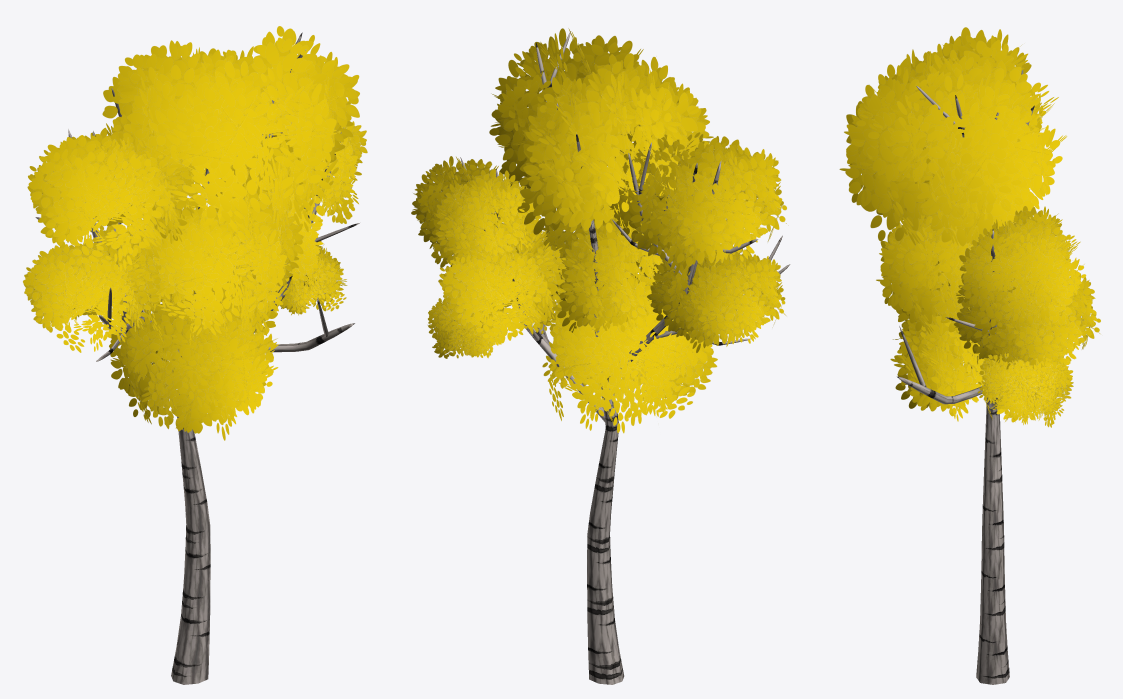
The model's file is BirchTree_3.gltf.
3 renders of one model, left to right at view 1: azimuth 30°, elevation 25°; view 2: azimuth 150°, elevation 25°; view 3: azimuth 270°, elevation 25°, orthographic. The views are drawn at different scales.
Visible parts, largest first — view 1: BirchTree_3; view 2: BirchTree_3; view 3: BirchTree_3.
Boxes of the visible parts, box(x1,y1,x2,y2) form: BirchTree_3: box(23, 26, 367, 684); BirchTree_3: box(411, 28, 790, 684); BirchTree_3: box(839, 27, 1100, 684).
Bounding box in the file's own units: 3.43 × 5.75 × 2.27.
2 materials, 2 textured.
